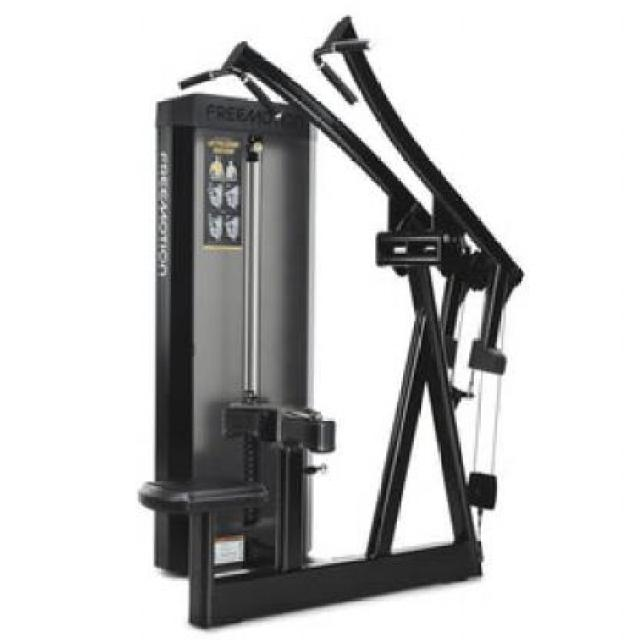Lat Pull Down: (138, 12, 540, 630)
